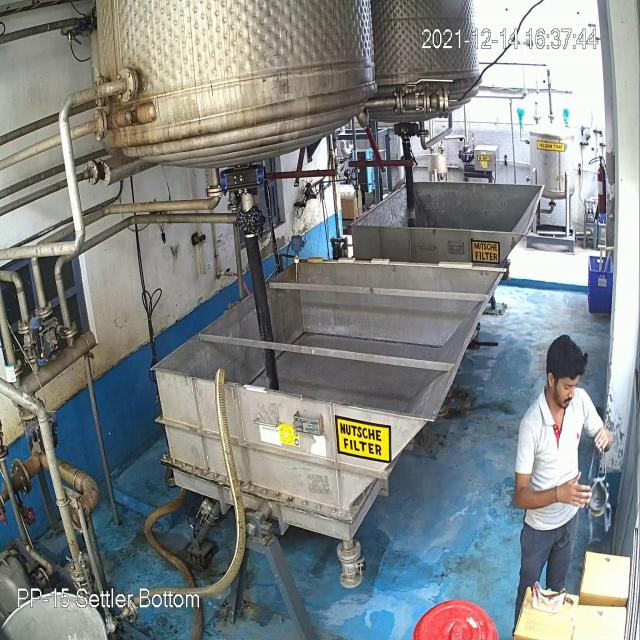No_Gloves: (515, 472, 590, 513)
